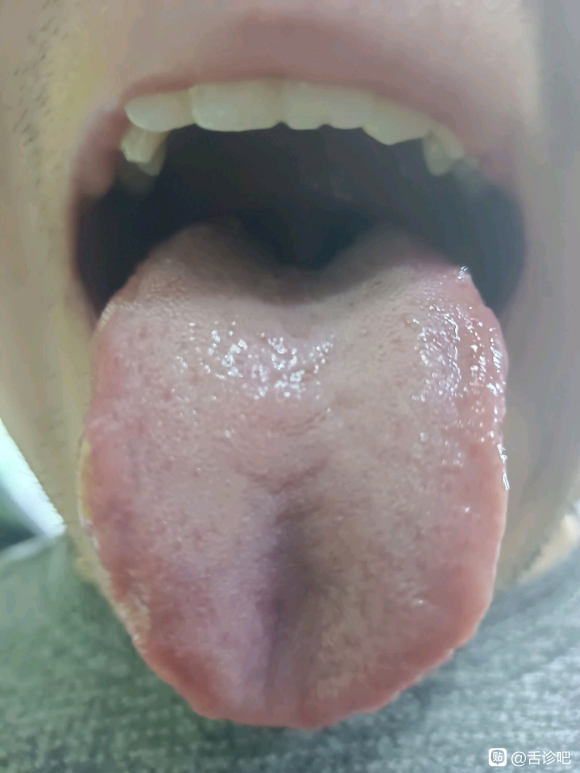baitaishe: (78, 215, 510, 730)
shenquao: (218, 216, 394, 282)
